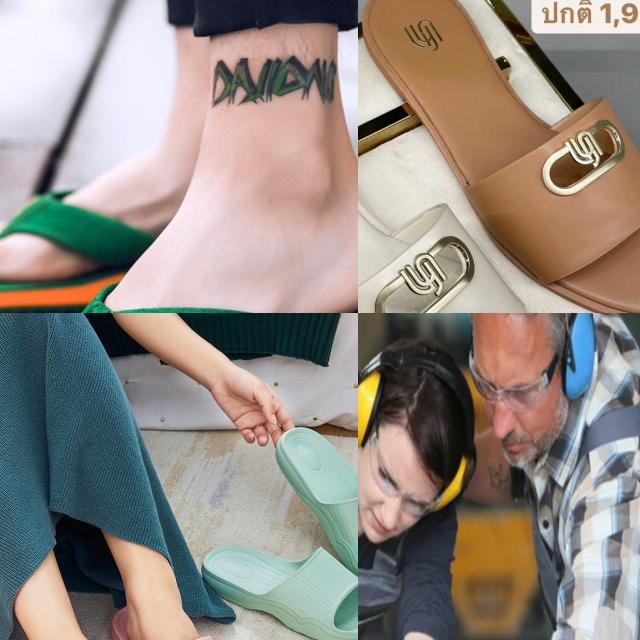Ear-protection: (358, 332, 470, 565), (472, 313, 596, 472)
Sandals: (358, 0, 640, 313), (358, 60, 589, 313), (0, 179, 358, 313), (0, 573, 298, 640)
